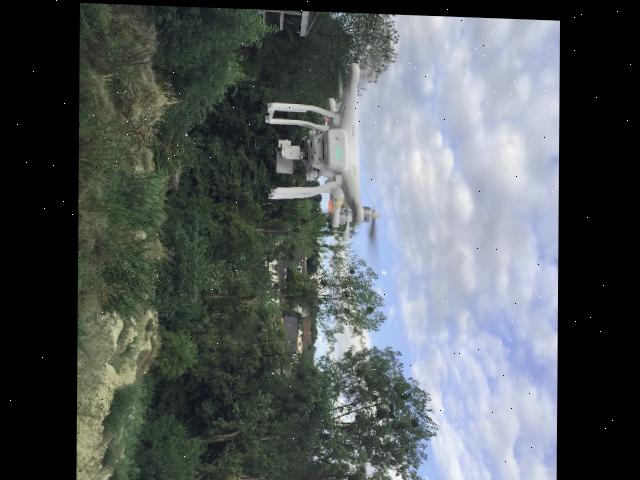drone: (265, 56, 386, 237)
